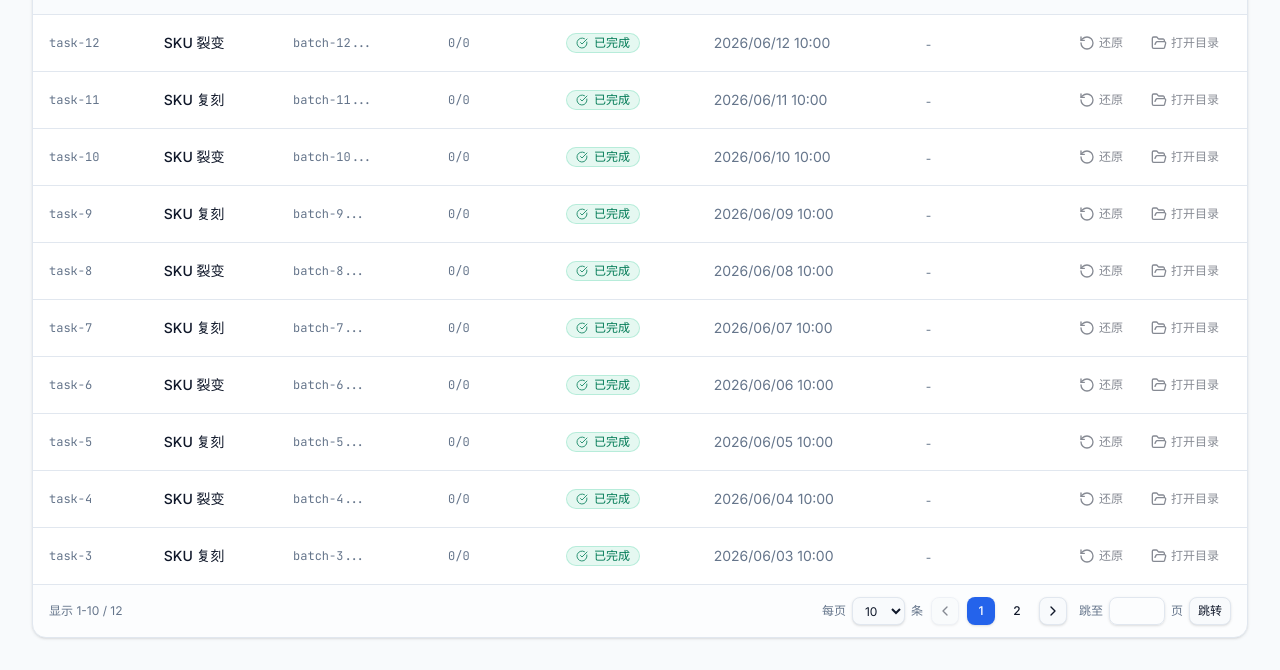
Test: Profile › filters tasks by feature and jumps to a specific page
(page scrolled)
Step 1. Type "2" into the number field named "跳转页码" → [1137, 611], box [1109,597,1165,625]
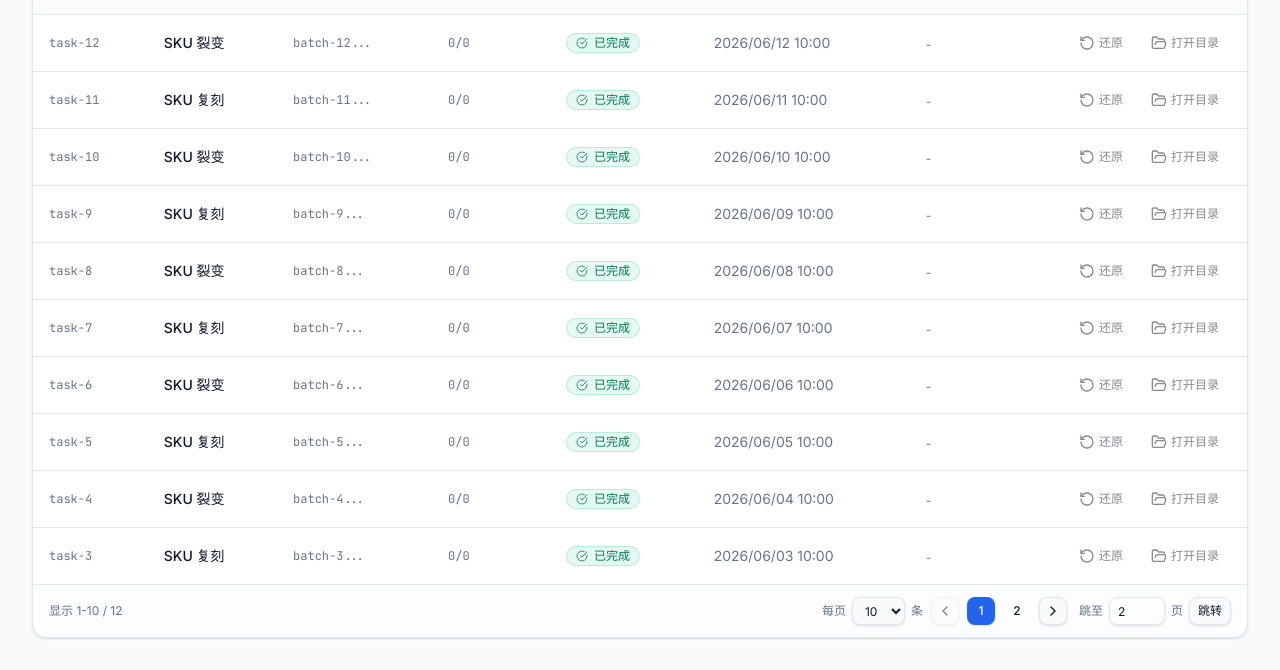
Step 2. Click the button "跳转" → [1210, 611], box [1189,597,1231,625]
(page scrolled)
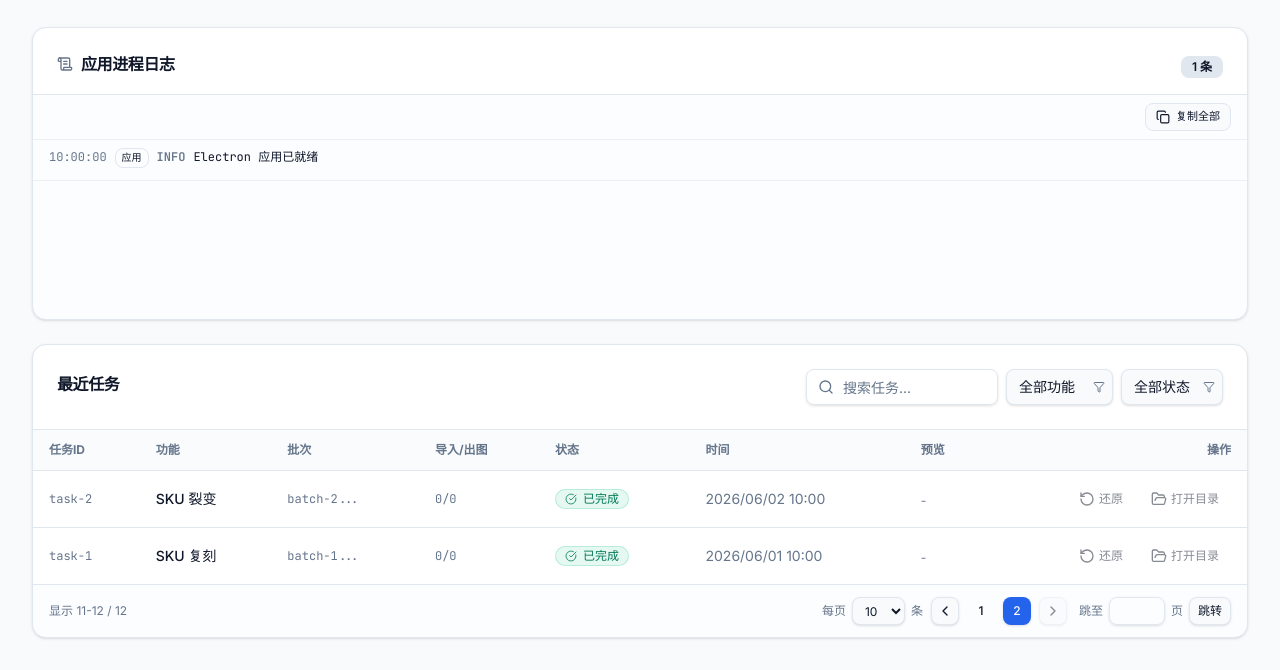
Check: the text "显示 11-12 / 12" is shown, box [49,603,127,619]
Step 3. Select "SKU 复刻" in the dropdown with id "tasks-feature-filter" → [1060, 387], box [1006,369,1113,405]
(page scrolled)
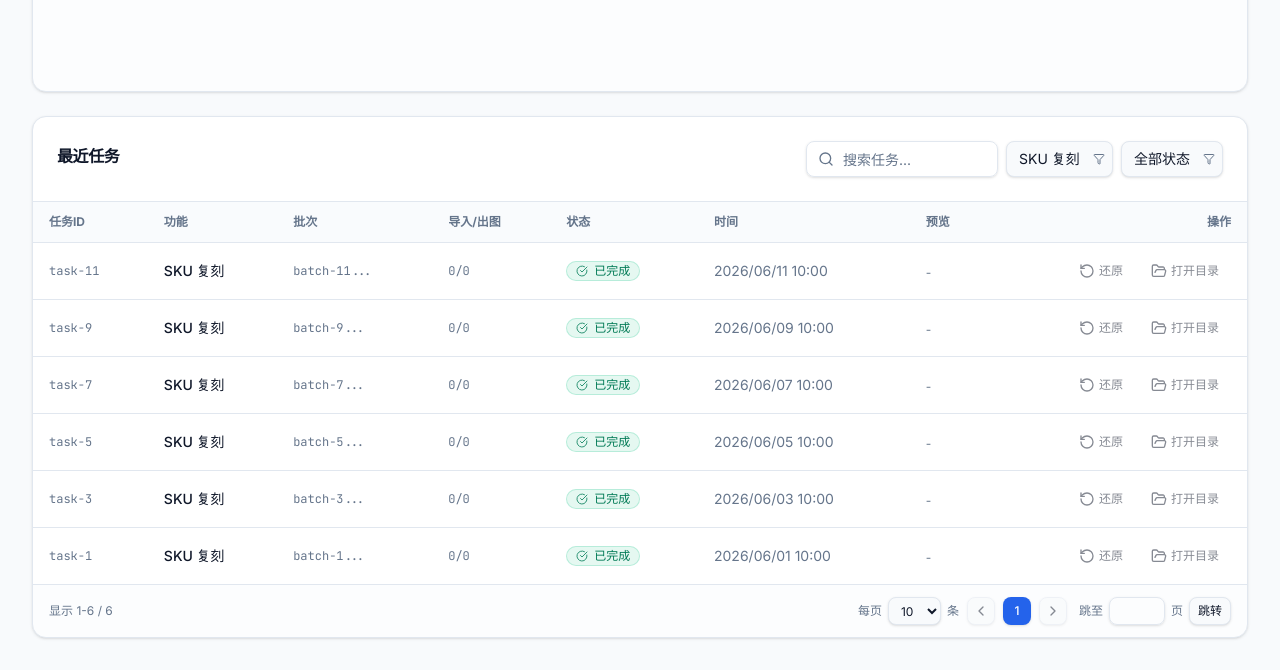
Check: the text "SKU 裂变" is gone
Check: the text "显示 1-6 / 6" is shown, box [49,603,113,619]
